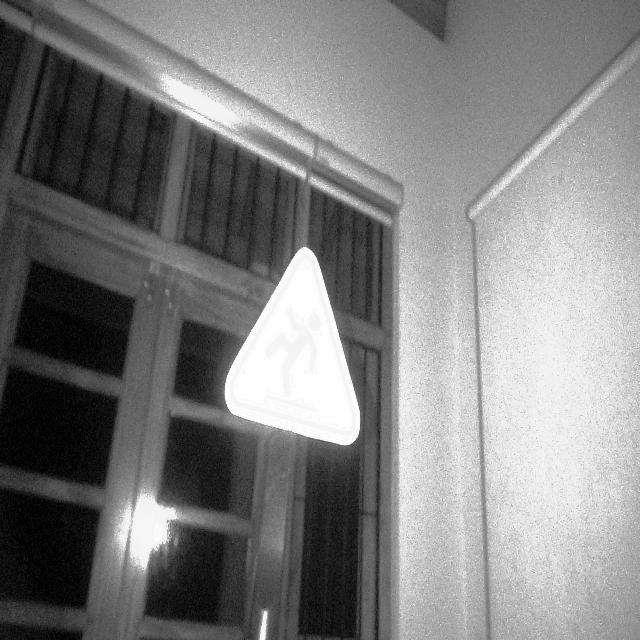Sign: (222, 243, 363, 449)
